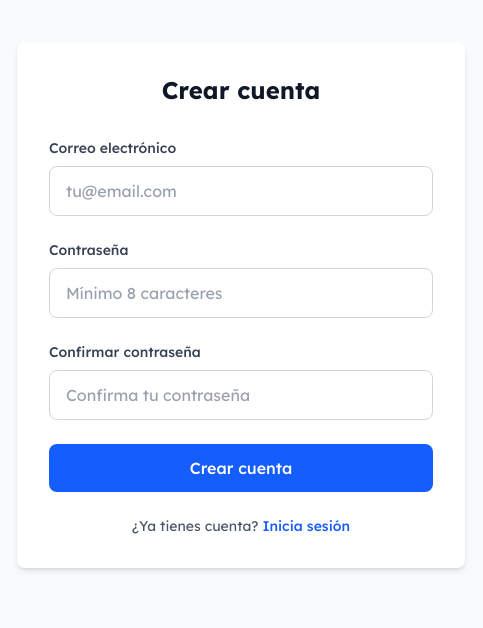
Test case: RegisterPage › displays error message when registration fails
Type "test@example.com" into the field labelled "Correo electrónico" at coordinates (241, 191), box [49,166,433,216]
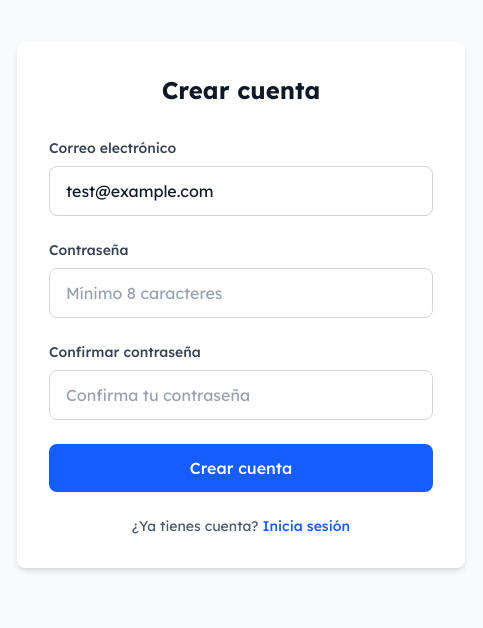
Type "password123" into the password field labelled "Contraseña" at coordinates (241, 293), box [49,268,433,318]
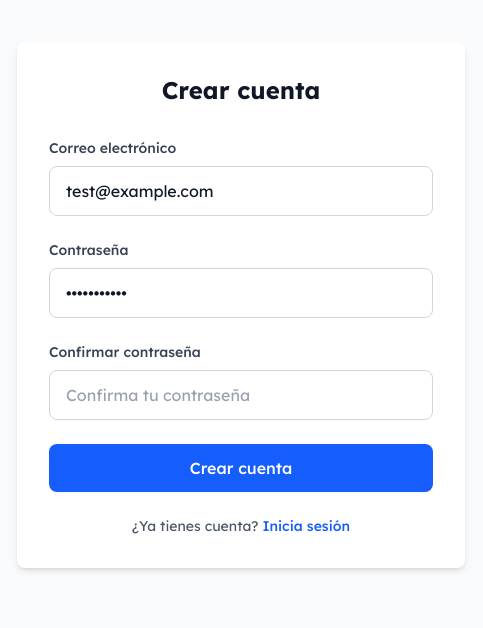
Type "password123" into the password field labelled "Confirmar contraseña" at coordinates (241, 395), box [49,370,433,420]
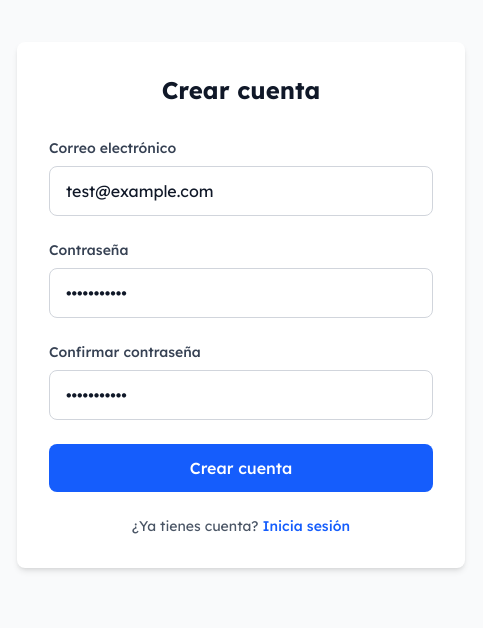
Click the button "Crear cuenta" at coordinates (241, 468), box [49,444,433,492]
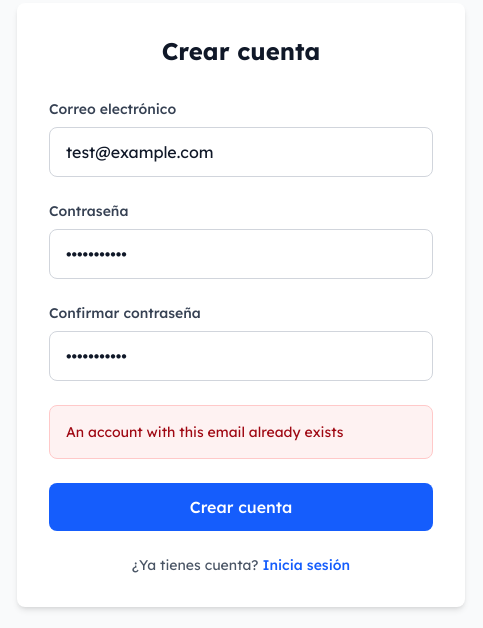
Expected: the text "An account with this email already exists" is shown, [66,423,344,441]
